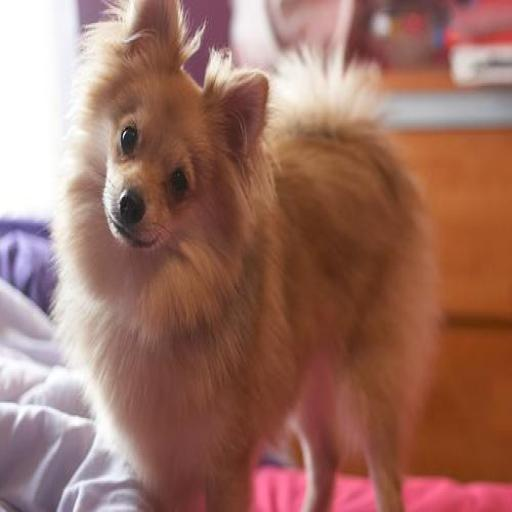dog_face: (69, 4, 269, 256)
